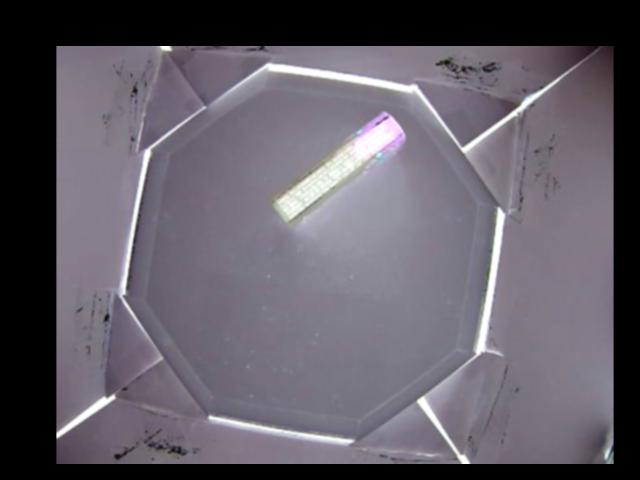Bottle: (273, 110, 410, 228)
